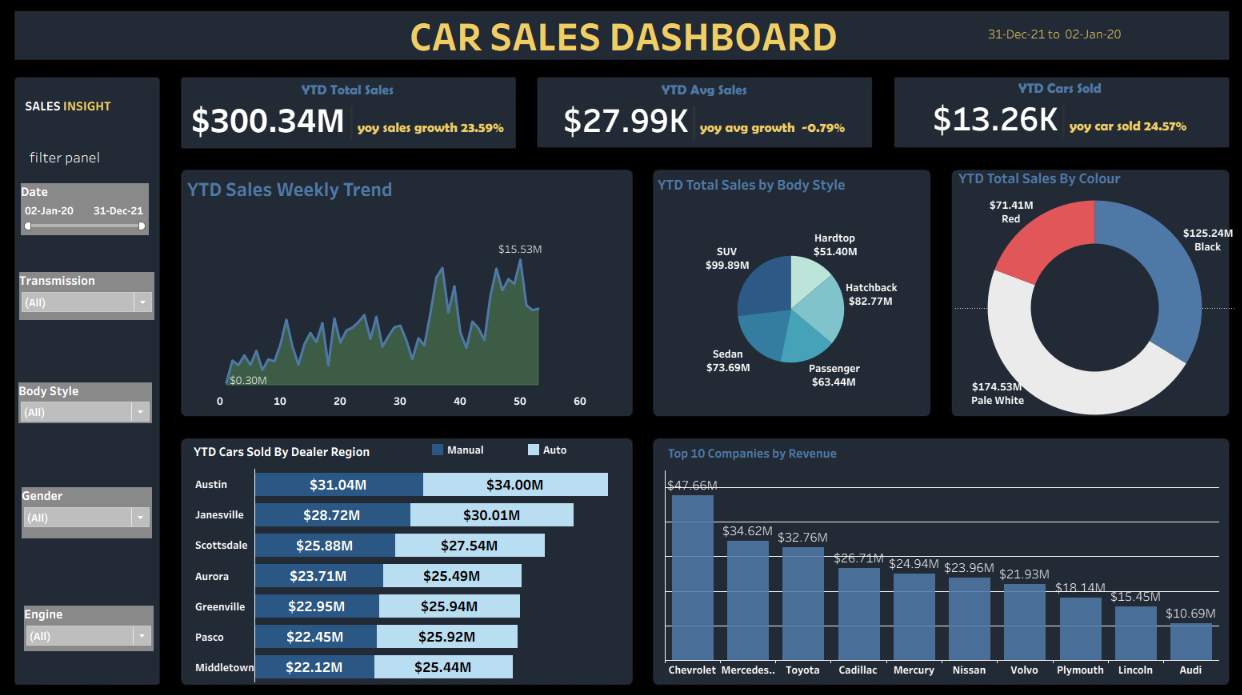

This screenshot's page, from the dashboard's own definition file:
{"tool":"tableau","page":{"name":"Dashboard 1","canvas":[1600,900],"ordinal":0},"visuals":[{"type":"image","param":"Image/Car Sales Background (1).jpg","box":[8,8,1584,884]},{"type":"text","box":[48,28,1507,61]},{"type":"worksheet","title":"Sheet 9","mark":"Automatic","box":[1123,28,436,60]},{"type":"worksheet","title":"ytd car sold","mark":"Automatic","box":[1140,109,415,90]},{"type":"worksheet","title":"YTD total sales","mark":"Automatic","box":[250,112,414,88]},{"type":"worksheet","title":"ytd avg growth","mark":"Automatic","box":[695,112,415,86]},{"type":"text","box":[50,132,114,30]},{"type":"text","box":[53,196,100,30]},{"type":"worksheet","title":"YTD Total Sales By Colour","mark":"Pie","rows":["Calculation_1027247151738882","Calculation_1027247151792132"],"box":[1216,222,349,317]},{"type":"worksheet","title":"YTD Total Sales by Body Style","mark":"Pie","box":[840,230,341,305]},{"type":"worksheet","title":"YTD Sales Weekly Trend","mark":"Area","rows":["Calculation_1122354863267840","Calculation_1122354863267840"],"cols":["Date"],"box":[252,231,555,299]},{"type":"filter","title":"YTD Sales Weekly Trend","param":"[federated.15u5tmd11jymy61d9xpm50e0uryv].[none:Date:qk]","box":[48,244,160,65]},{"type":"filter","title":"YTD Sales Weekly Trend","param":"[federated.15u5tmd11jymy61d9xpm50e0uryv].[none:Transmission:nk]","box":[46,355,169,60]},{"type":"filter","title":"YTD Sales Weekly Trend","param":"[federated.15u5tmd11jymy61d9xpm50e0uryv].[none:Body Style:nk]","box":[45,493,167,51]},{"type":"worksheet","title":"YTD Cars Sold By Dealer Region","mark":"Automatic","rows":["Dealer_Region"],"cols":["Calculation_1122354863267840"],"box":[260,565,544,303]},{"type":"legend","title":"YTD Cars Sold By Dealer Region","param":"[federated.15u5tmd11jymy61d9xpm50e0uryv].[none:Transmission:nk]","box":[559,567,266,33]},{"type":"worksheet","title":"Sheet 8","mark":"Automatic","rows":["Price ($)"],"cols":["Company"],"box":[853,567,693,295]},{"type":"filter","title":"YTD Sales Weekly Trend","param":"[federated.15u5tmd11jymy61d9xpm50e0uryv].[none:Gender:nk]","box":[49,624,163,64]},{"type":"filter","title":"YTD Sales Weekly Trend","param":"[federated.15u5tmd11jymy61d9xpm50e0uryv].[none:Engine:nk]","box":[52,772,162,57]}]}

Visuals, with their boxes in screenshot pixels (x1, y1, x2, y2), scaled from the page's 1600x900 canvas onto the 1242x695 screenshot:
image: crop(6, 6, 1236, 689)
text: crop(37, 22, 1207, 69)
"Sheet 9" worksheet: crop(872, 22, 1210, 68)
"ytd car sold" worksheet: crop(885, 84, 1207, 154)
"YTD total sales" worksheet: crop(194, 86, 515, 154)
"ytd avg growth" worksheet: crop(539, 86, 862, 153)
text: crop(39, 102, 127, 125)
text: crop(41, 151, 119, 175)
"YTD Total Sales By Colour" worksheet (Pie marks): crop(944, 171, 1215, 416)
"YTD Total Sales by Body Style" worksheet (Pie marks): crop(652, 178, 917, 413)
"YTD Sales Weekly Trend" worksheet (Area marks): crop(196, 178, 626, 409)
"YTD Sales Weekly Trend" filter: crop(37, 188, 161, 239)
"YTD Sales Weekly Trend" filter: crop(36, 274, 167, 320)
"YTD Sales Weekly Trend" filter: crop(35, 381, 165, 420)
"YTD Cars Sold By Dealer Region" worksheet: crop(202, 436, 624, 670)
"YTD Cars Sold By Dealer Region" legend: crop(434, 438, 640, 463)
"Sheet 8" worksheet: crop(662, 438, 1200, 666)
"YTD Sales Weekly Trend" filter: crop(38, 482, 165, 531)
"YTD Sales Weekly Trend" filter: crop(40, 596, 166, 640)
